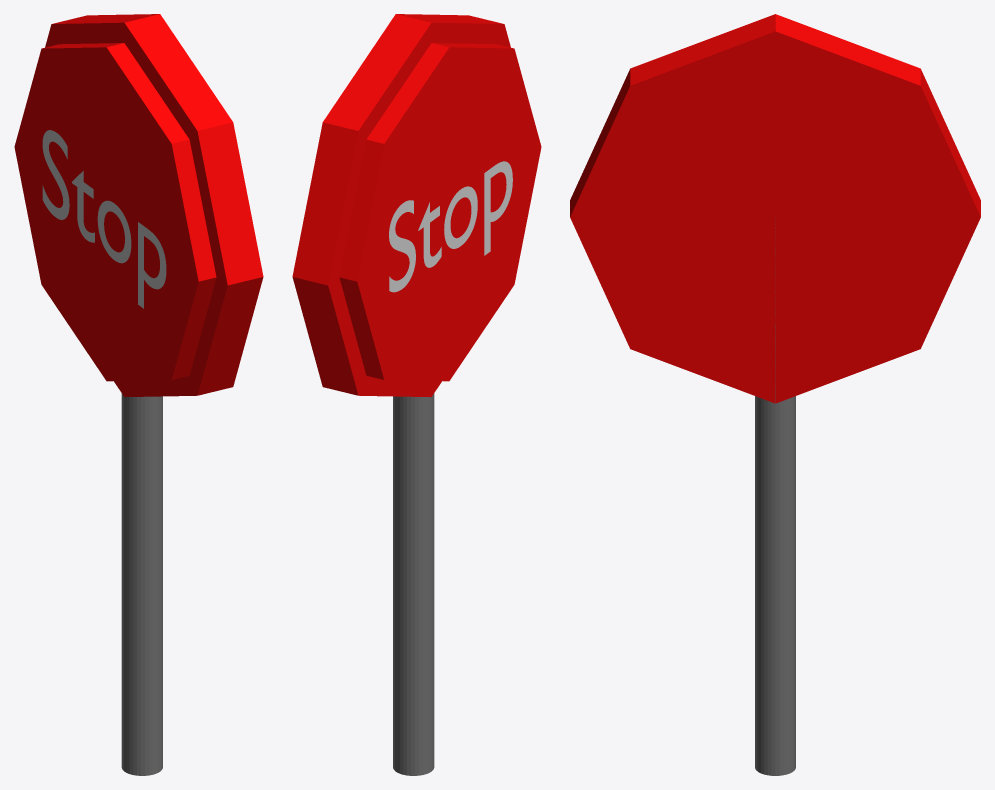
Rendered from StopSign.fbx.
The picture shows the model from 3 angles, left to right: view 1: azimuth 30°, elevation 25°; view 2: azimuth 150°, elevation 25°; view 3: azimuth 270°, elevation 25°; orthographic projection.
Parts seen in each view (by area): view 1: Cylinder.001, Text; view 2: Cylinder.001, Text; view 3: Cylinder.001.
Part boxes in pixels (left/top/right/bottom): Cylinder.001: left=14, top=14, right=263, bottom=775; Text: left=42, top=130, right=166, bottom=308; Cylinder.001: left=292, top=14, right=541, bottom=775; Text: left=389, top=161, right=512, bottom=292; Cylinder.001: left=570, top=14, right=980, bottom=775.
Bounding box in the file's own units: 3.1 × 40 × 20.
